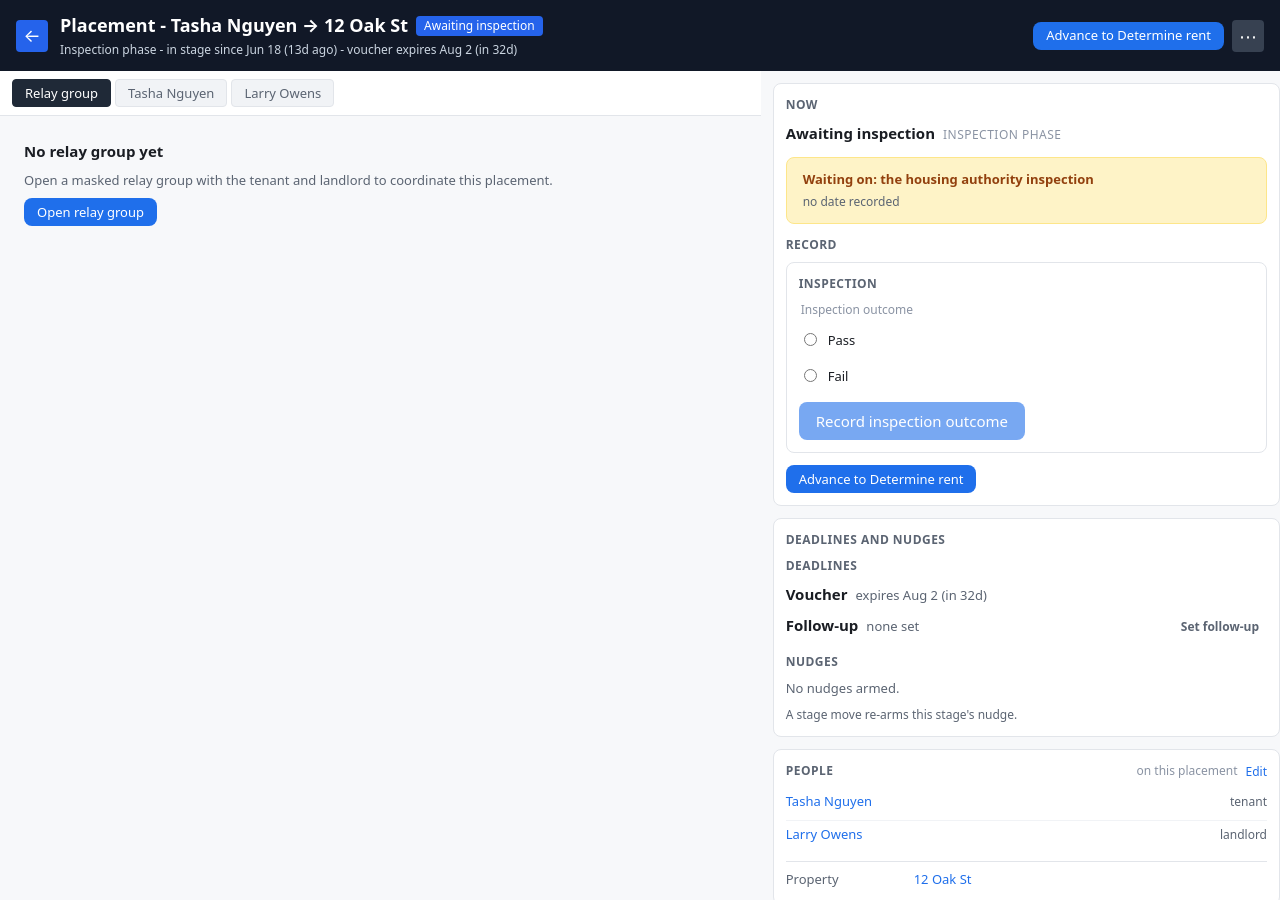
PlacementDetail - header › hides Open relay group once a group thread exists
This screenshot has width=1280, height=900.
Expected: the link named "Back to placements" is shown, [16, 20, 48, 52]
Click the button named "More actions": click(1248, 36) [1232, 20, 1264, 52]
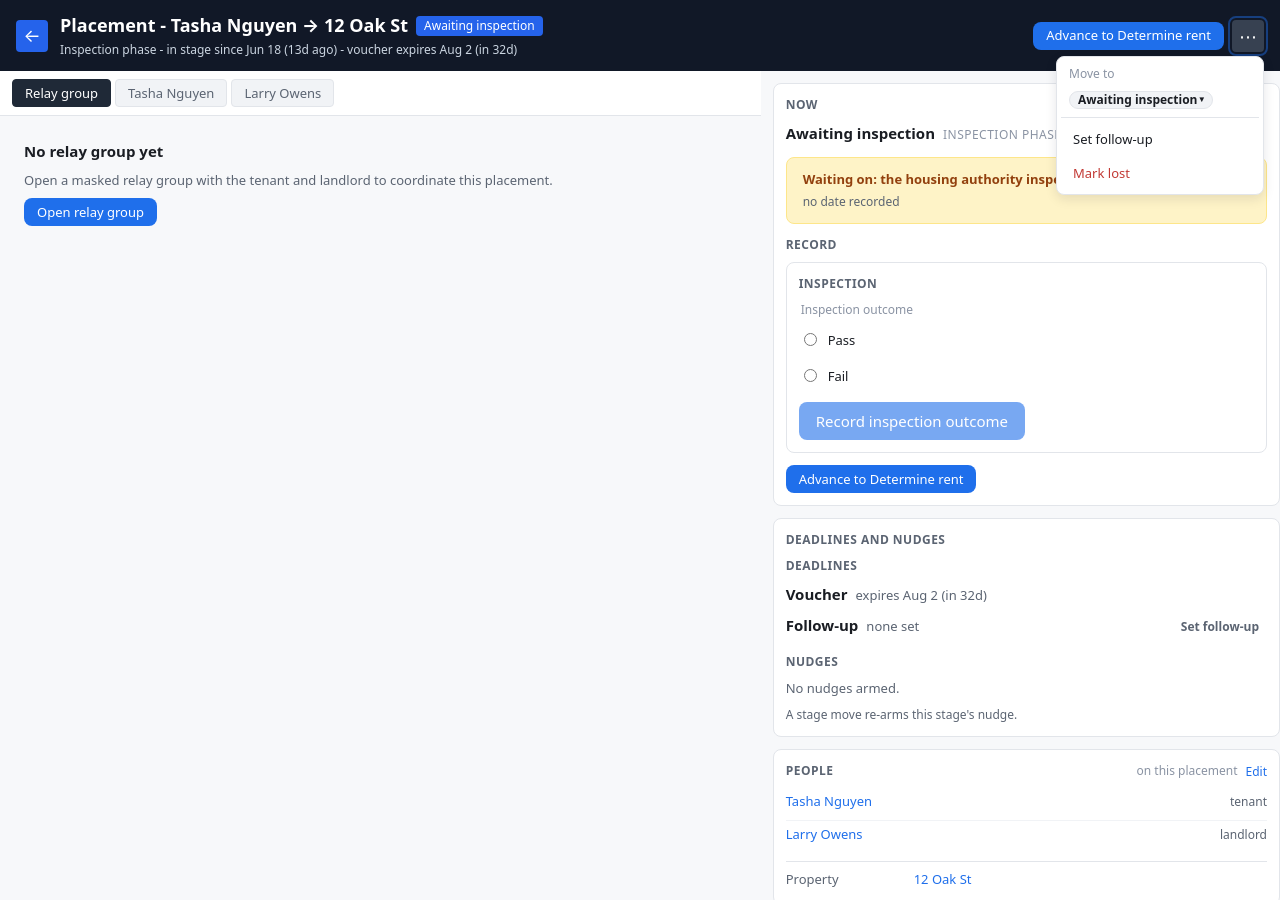
Expected: the menu item "Mark lost" is shown, [1061, 156, 1259, 190]
